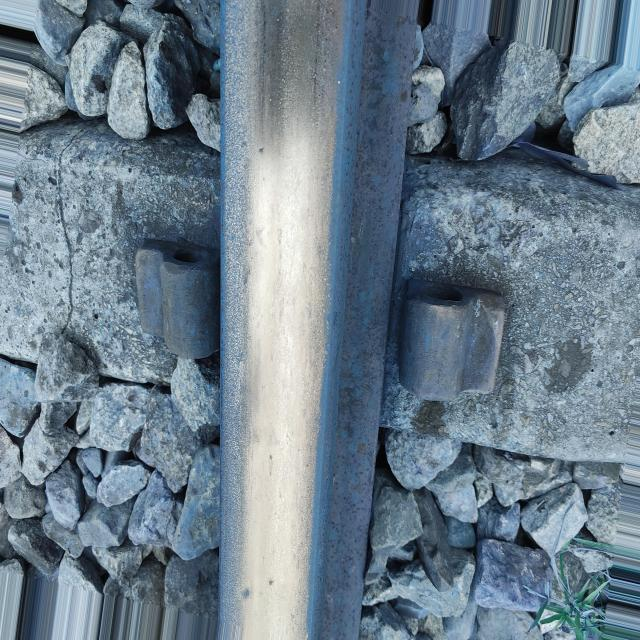Missing Fastener: (398, 224, 518, 430), (110, 210, 230, 377)
